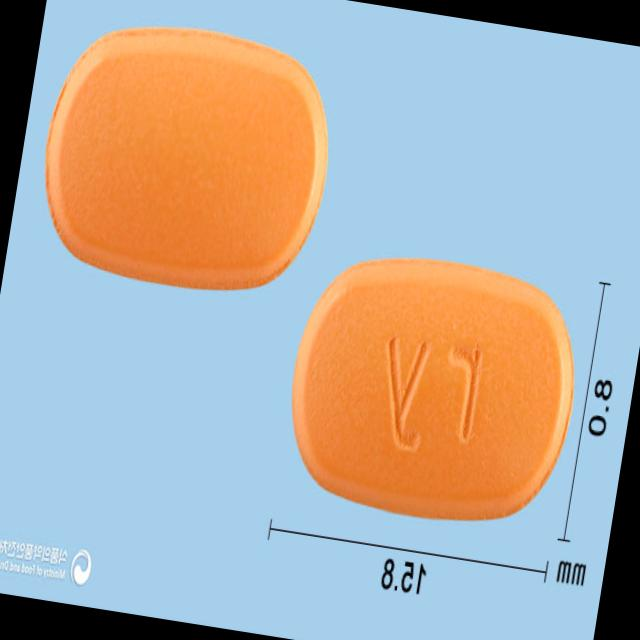Cefaxamin Cap: (275, 237, 591, 538), (27, 8, 344, 308)
